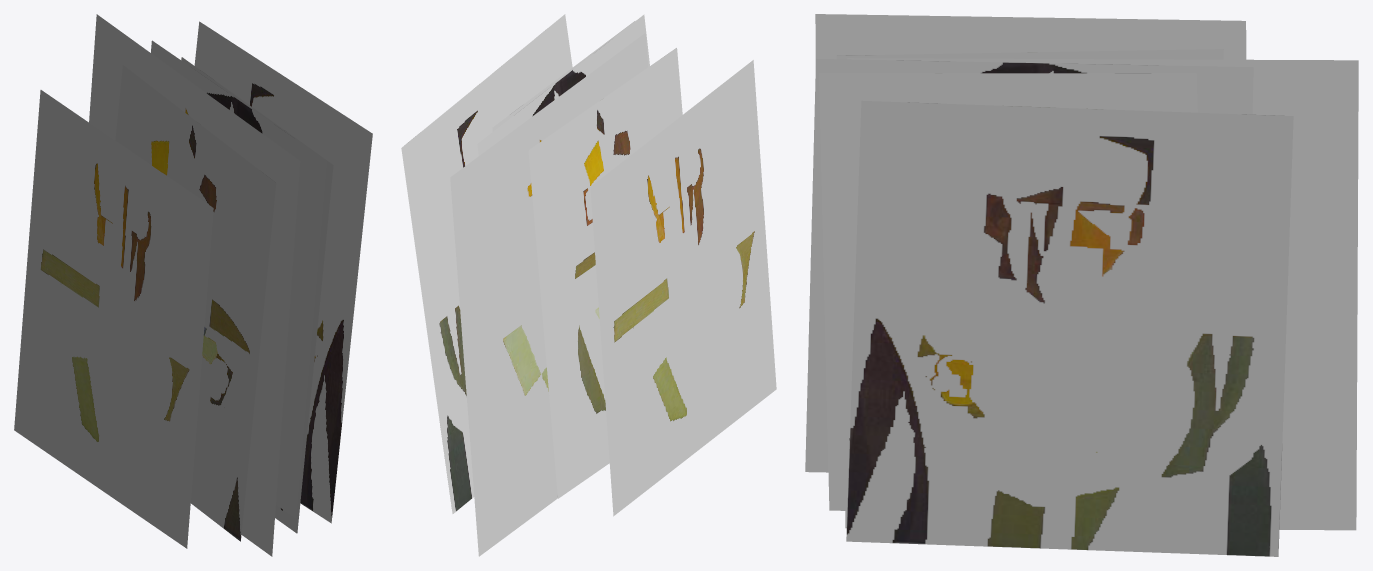
The model's file is pettoruti.dae.
The picture shows the model from 3 angles, left to right: view 1: azimuth 30°, elevation 25°; view 2: azimuth 150°, elevation 25°; view 3: azimuth 270°, elevation 25°; orthographic projection. The views are drawn at different scales.
Visible parts, largest first — view 1: Plane_002, Plane_003, Plane_006, Plane, Plane_005, Plane_004, Plane_001; view 2: Plane_002, Plane, Plane_003, Plane_006, Plane_005, Plane_001, Plane_004; view 3: Plane_006, Plane, Plane_004, Plane_002, Plane_005, Plane_003.
Part boxes in pixels (box(x1,y1,x2,y2)): Plane_002: box(14, 90, 213, 548); Plane_003: box(115, 65, 276, 541); Plane_006: box(194, 21, 372, 523); Plane: box(89, 14, 300, 556); Plane_005: box(151, 40, 326, 517); Plane_004: box(181, 57, 333, 533); Plane_001: box(151, 140, 217, 364); Plane_002: box(590, 60, 776, 516); Plane: box(450, 33, 648, 556); Plane_003: box(528, 48, 682, 498); Plane_006: box(401, 14, 572, 513); Plane_005: box(477, 14, 649, 155); Plane_001: box(584, 140, 603, 319); Plane_004: box(492, 21, 634, 131); Plane_006: box(846, 100, 1293, 556); Plane: box(845, 58, 1358, 530); Plane_004: box(819, 73, 1197, 510); Plane_002: box(815, 14, 1246, 65); Plane_005: box(805, 58, 1253, 472); Plane_003: box(836, 49, 1223, 59).
Size of the model in its own units: 5.57 by 10.39 by 10.32.
7 materials, 7 textured.
